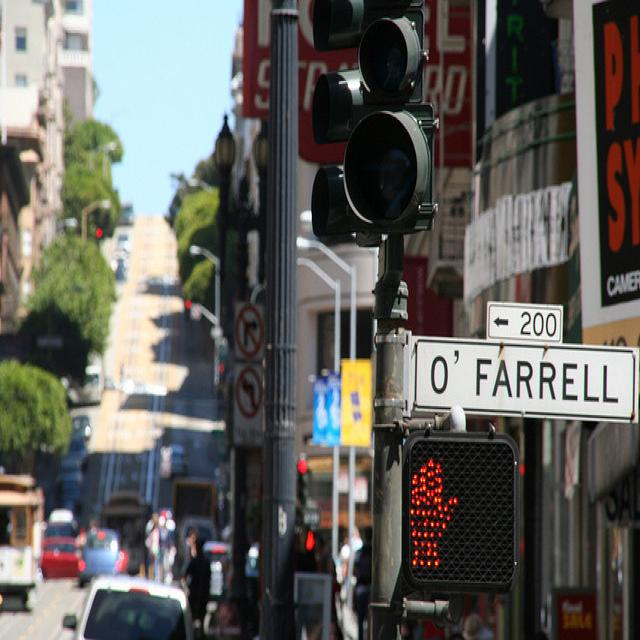Vehicle: (64, 574, 193, 633), (0, 474, 44, 590), (168, 471, 222, 525), (80, 528, 128, 586), (39, 520, 81, 580), (202, 541, 231, 595), (47, 507, 74, 521)
